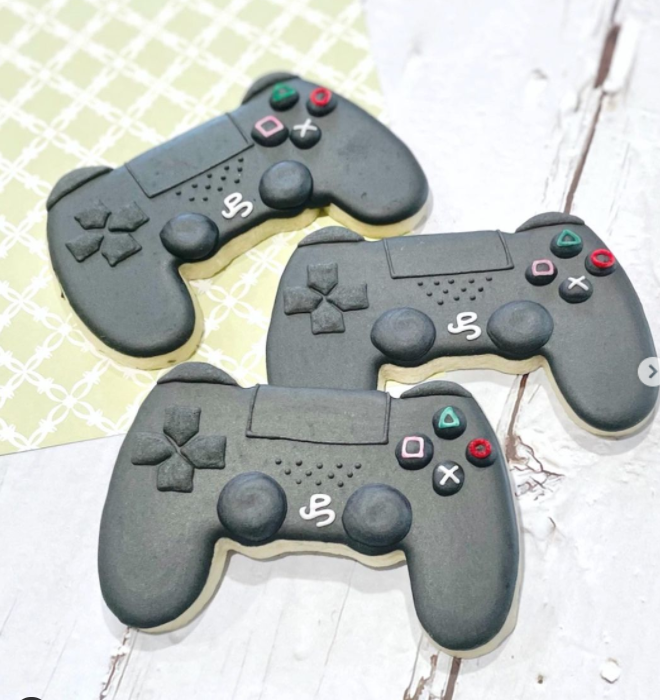gamingconsole: (101, 362, 520, 654), (279, 232, 660, 433)
